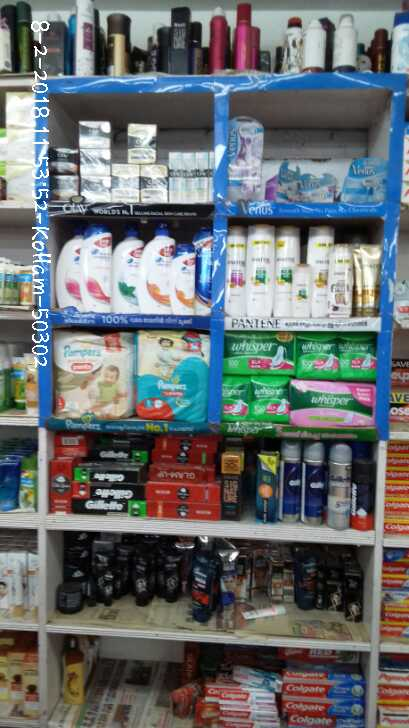gillete: (325, 444, 352, 528), (278, 443, 303, 519), (303, 443, 324, 523), (351, 457, 372, 530), (74, 501, 143, 516), (73, 483, 142, 498), (81, 466, 141, 481), (95, 444, 151, 459)
venus: (230, 115, 268, 197), (342, 159, 383, 201), (303, 169, 334, 199)
